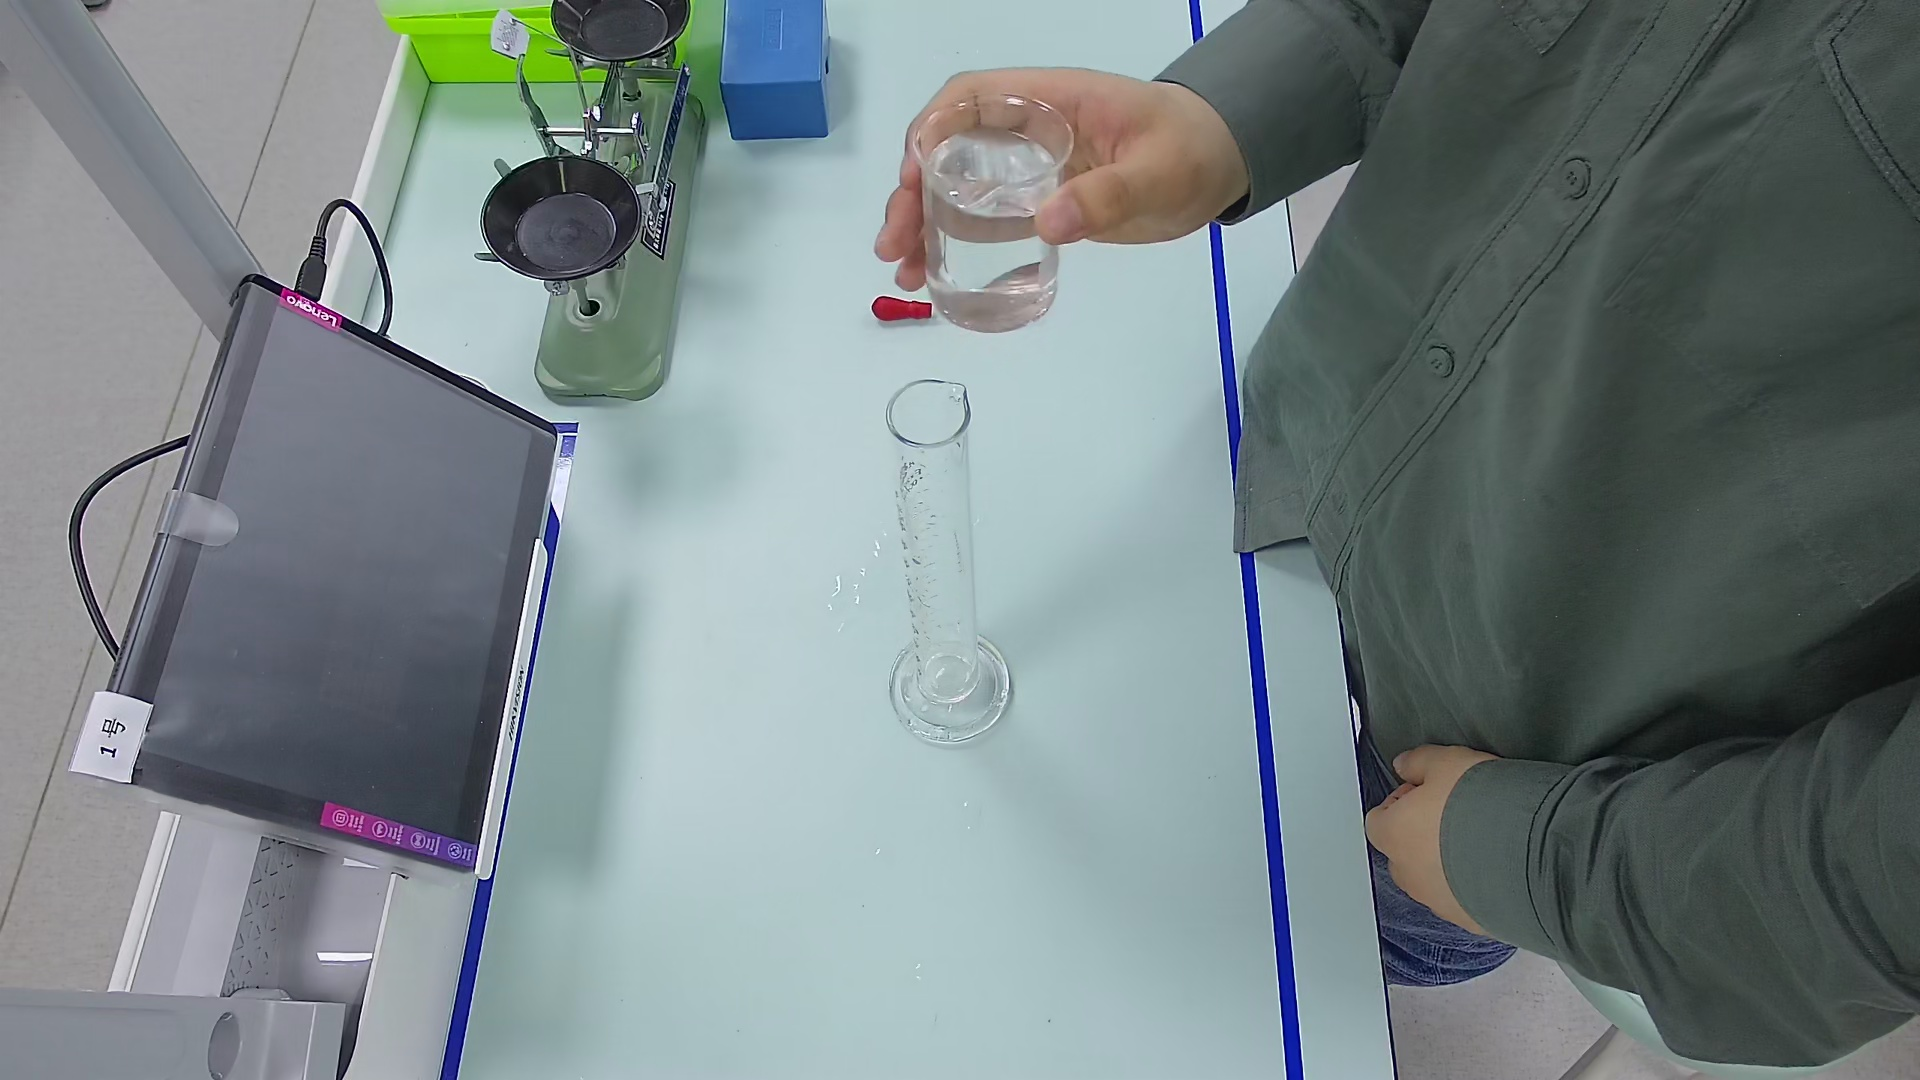bei: (916, 91, 1071, 330)
diguantou: (866, 291, 934, 330)
hand: (866, 49, 1259, 284), (1356, 746, 1516, 934)
liangdi: (884, 636, 1025, 745)
liangtong: (877, 375, 1011, 736)
tuo: (467, 149, 644, 291), (541, 1, 694, 59)
